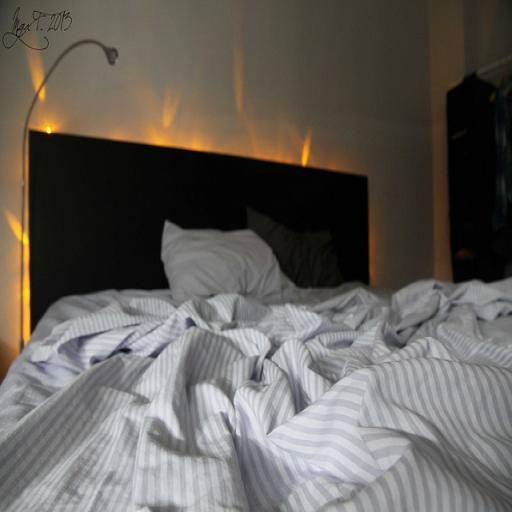bed: (1, 116, 512, 512)
